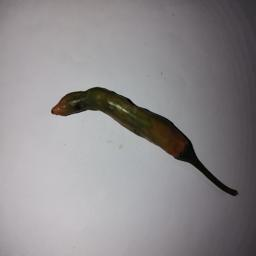Buah Cabai Sehat: (51, 84, 197, 166)
